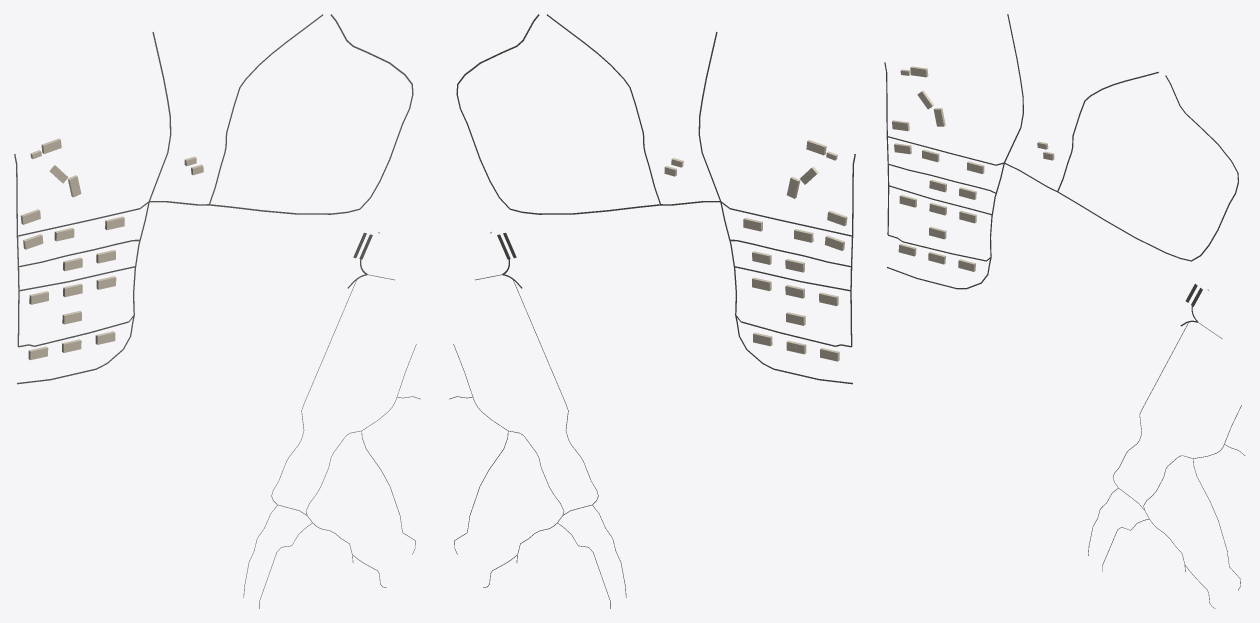
File: historic-palestine-07_25_3494_3197.glb
3 views of the same model, side by side, from view 1: azimuth 30°, elevation 25°; view 2: azimuth 150°, elevation 25°; view 3: azimuth 330°, elevation 25° (orthographic). The views are drawn at different scales.
Visible parts, largest first — view 1: Road .005; view 2: Road .005; view 3: Road .005.
Boxes of the visible parts, x1,y1,x2,y2 form: Road .005: [209, 14, 413, 214]; Road .005: [456, 14, 660, 214]; Road .005: [1057, 75, 1238, 261].
Size of the model in its own units: 953 by 1372 by 8.7.
